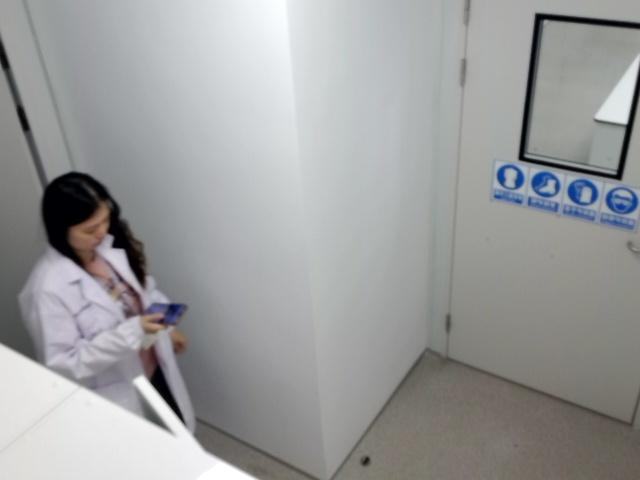Lab_coat: (18, 172, 194, 432)
